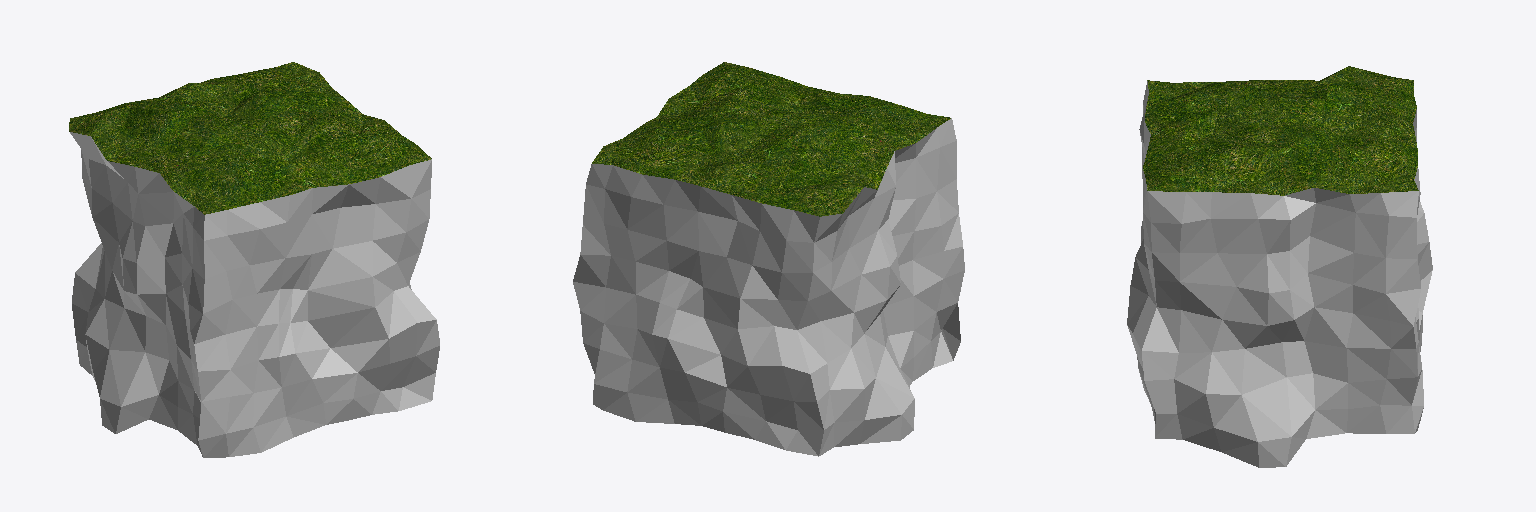
The picture shows the model from 3 angles: view 1: azimuth 30°, elevation 25°; view 2: azimuth 150°, elevation 25°; view 3: azimuth 270°, elevation 25°; orthographic projection.
Visible parts, largest first — view 1: Cube.004; view 2: Cube.004; view 3: Cube.004.
Boxes of the visible parts, <box> form: Cube.004: <box>69,62,439,457</box>; Cube.004: <box>573,62,964,456</box>; Cube.004: <box>1127,66,1432,467</box>.
Bounding box in the file's own units: 2.43 × 2.27 × 2.22.
2 materials, 1 textured.